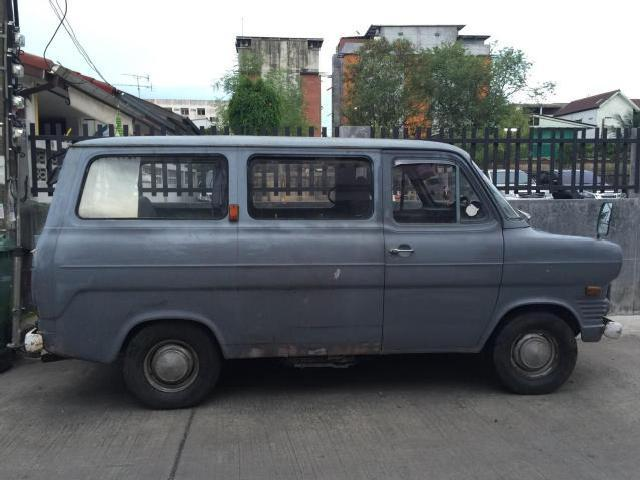van: (22, 135, 624, 414)
